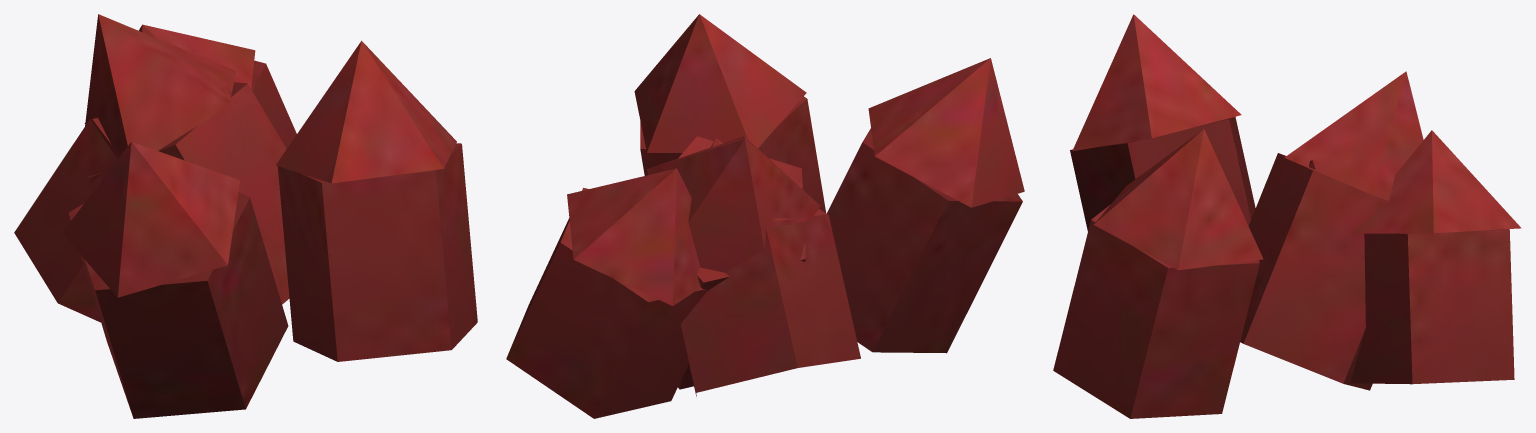
File: bioflux.glb
The picture shows the model from 3 angles, left to right: view 1: azimuth 30°, elevation 25°; view 2: azimuth 150°, elevation 25°; view 3: azimuth 270°, elevation 25°; orthographic projection. The views are drawn at different scales.
Parts seen in each view (by area): view 1: bioflux; view 2: bioflux; view 3: bioflux.
Part boxes in pixels (<box>): bioflux: <box>14,14,477,418</box>; bioflux: <box>506,14,1024,418</box>; bioflux: <box>1053,14,1521,418</box>.
Bounding box in the file's own units: 0.159 × 0.1234 × 0.1789.
Materials: 1 (1 with a texture image).
